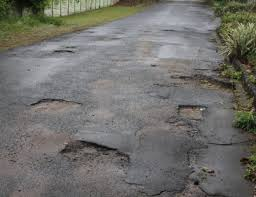pothole: (48, 135, 142, 181), (162, 100, 223, 144), (22, 90, 98, 121)
